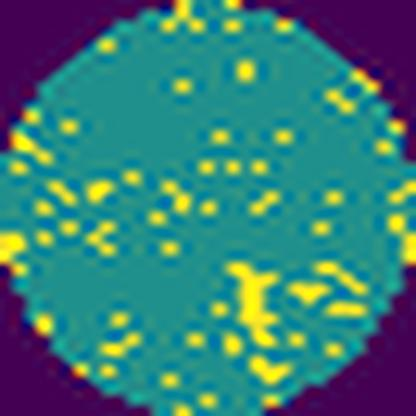Edge-Loc: (223, 262, 280, 348), (247, 352, 294, 384)
